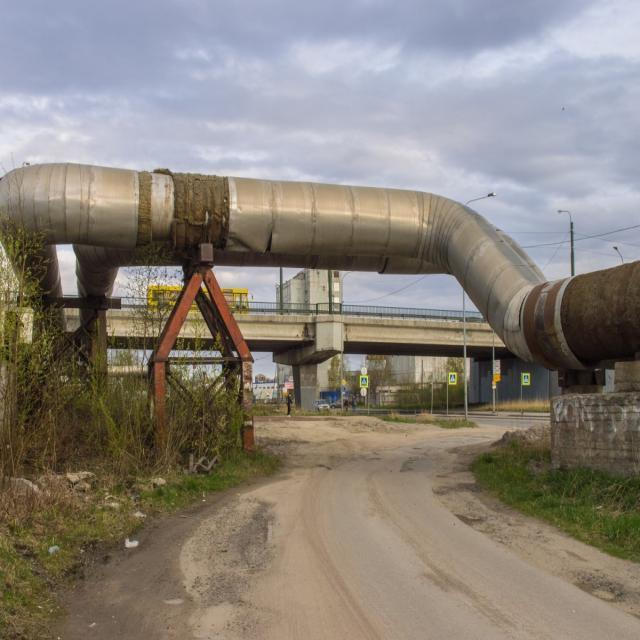gas: (0, 164, 640, 369)
